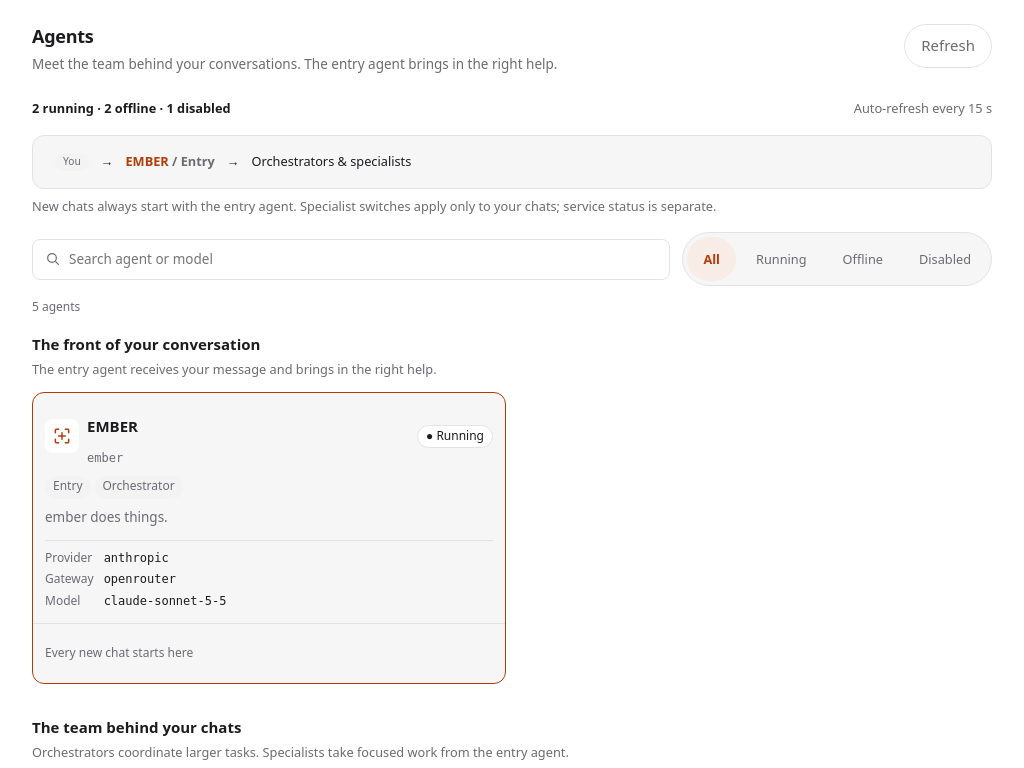
Test case: AgentsView › combines status and model search, clears filters and preserves choices through refresh
The width and height of the screenshot is (1024, 768).
Step 1. Click the button "Offline" → (863, 260), box top-left (827, 238), bottom-right (899, 282)
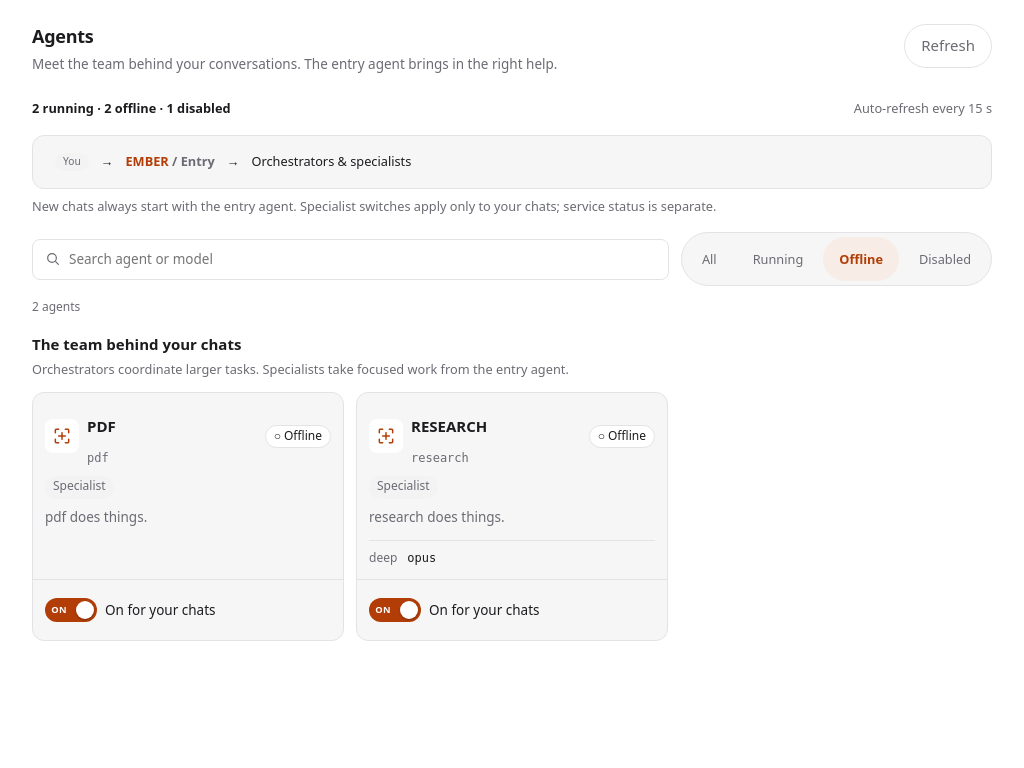
Step 2. Type "opus" into the search field with placeholder "Search agent or model" → (362, 259), box top-left (69, 249), bottom-right (656, 270)
Wait 15000 ms
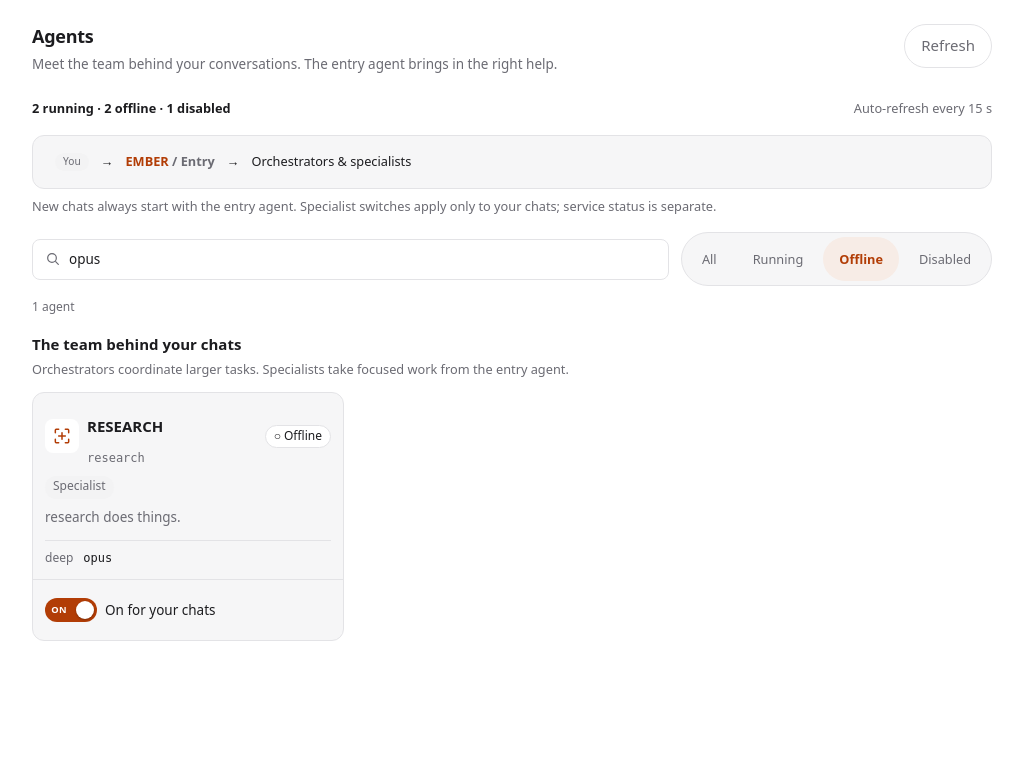
Result: the number of elements with class "agent-card" is 1 at top-left (32, 392), bottom-right (344, 642)
Step 3. Replace the text in the search field named "Search agents" with "missing" → (362, 259), box top-left (69, 249), bottom-right (656, 270)
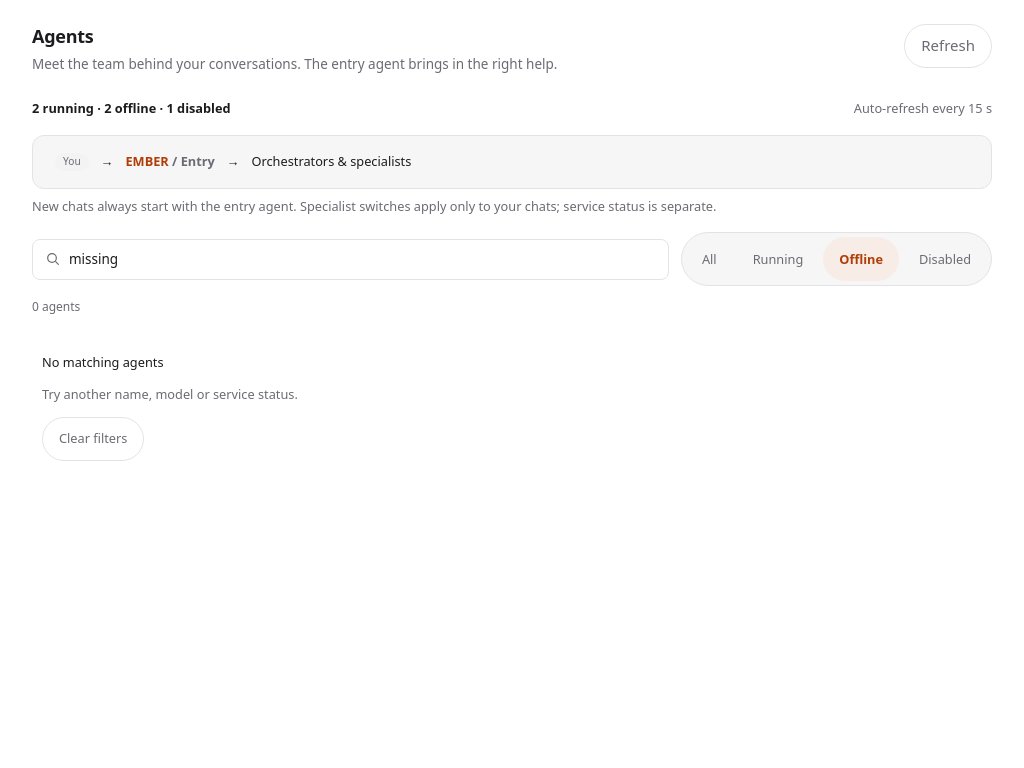
Result: the text "No matching agents" is shown at top-left (42, 353), bottom-right (164, 371)
Step 4. Click the button "Clear filters" → (93, 439), box top-left (42, 417), bottom-right (144, 461)
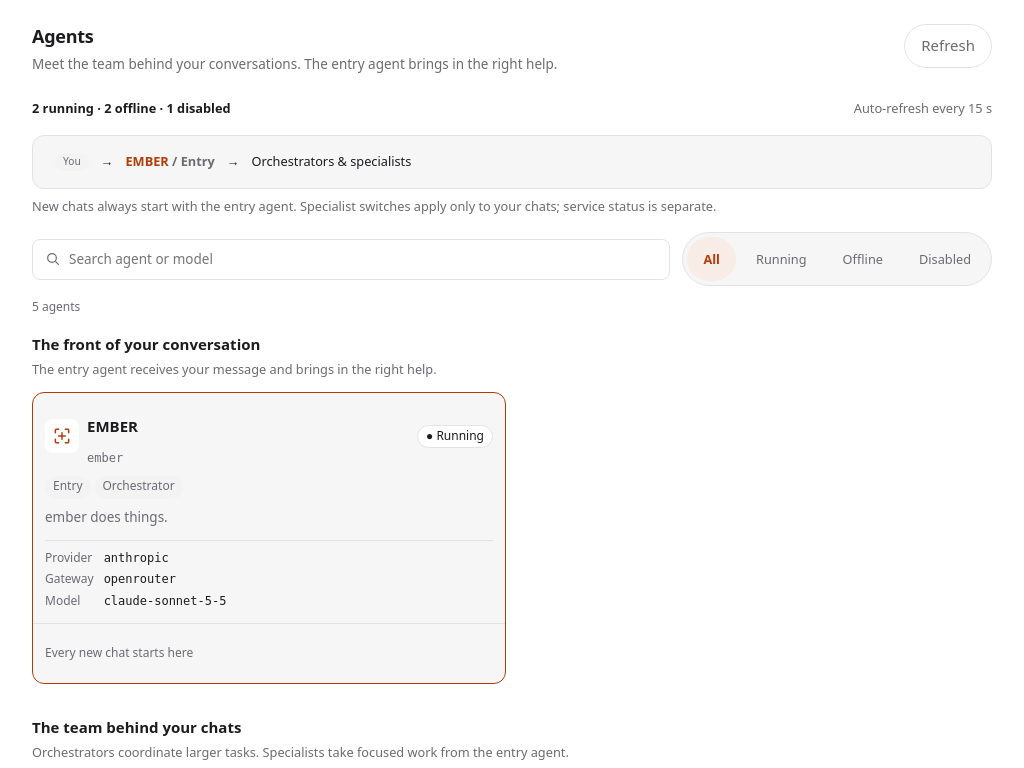
Result: the number of elements with class "agent-card" is 5
